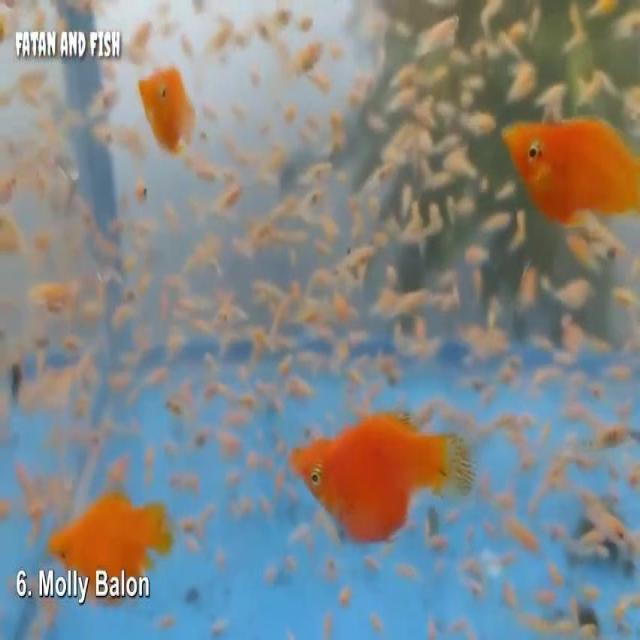PlatyFish: (284, 409, 476, 554), (492, 101, 640, 232)
